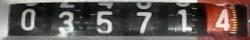digits: (96, 10, 113, 33), (57, 11, 74, 33), (214, 8, 230, 31), (20, 8, 36, 30), (136, 11, 152, 33), (177, 8, 188, 33)
